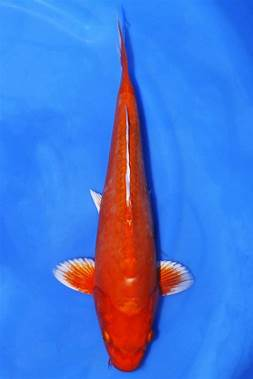red: (52, 16, 196, 372)
